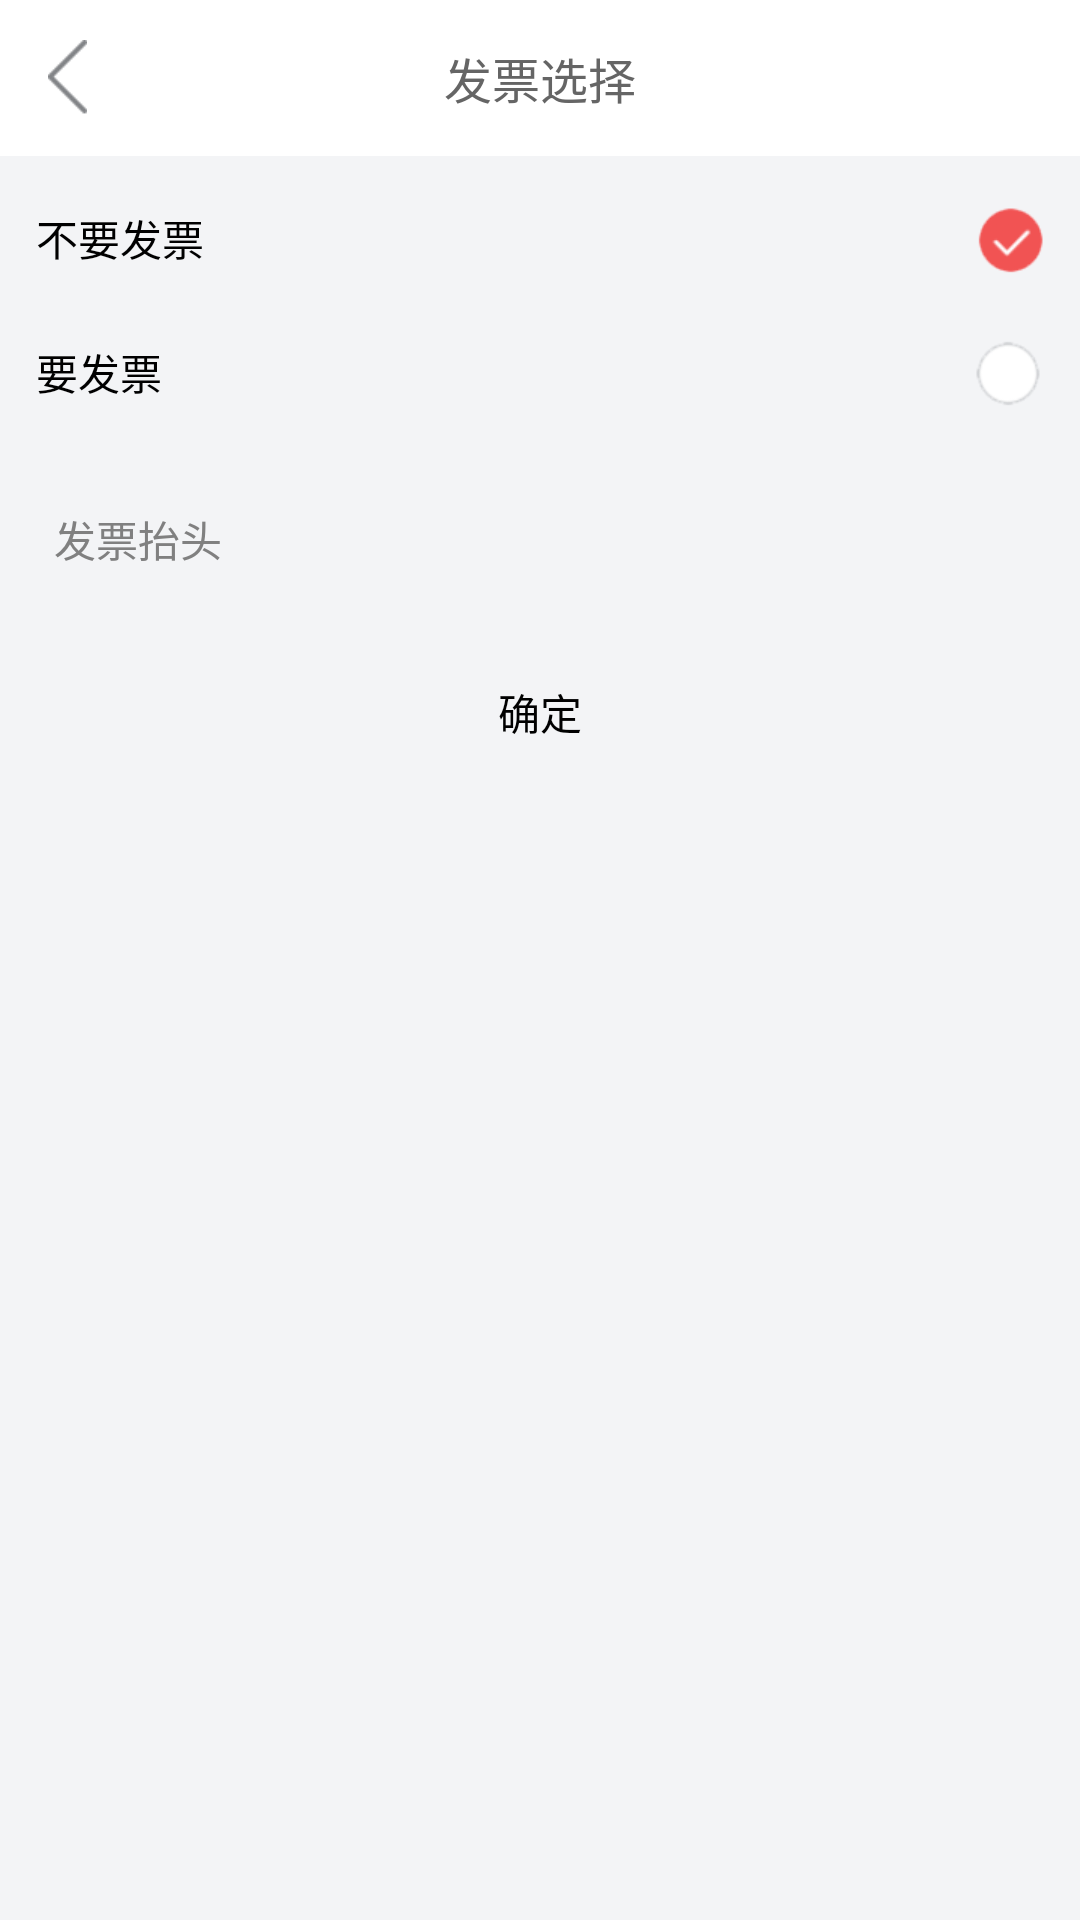

Where to tap for icons on this 1080px x 1920px app screen, as (x,y):
back: (67,77)
select one: (1011,240)
